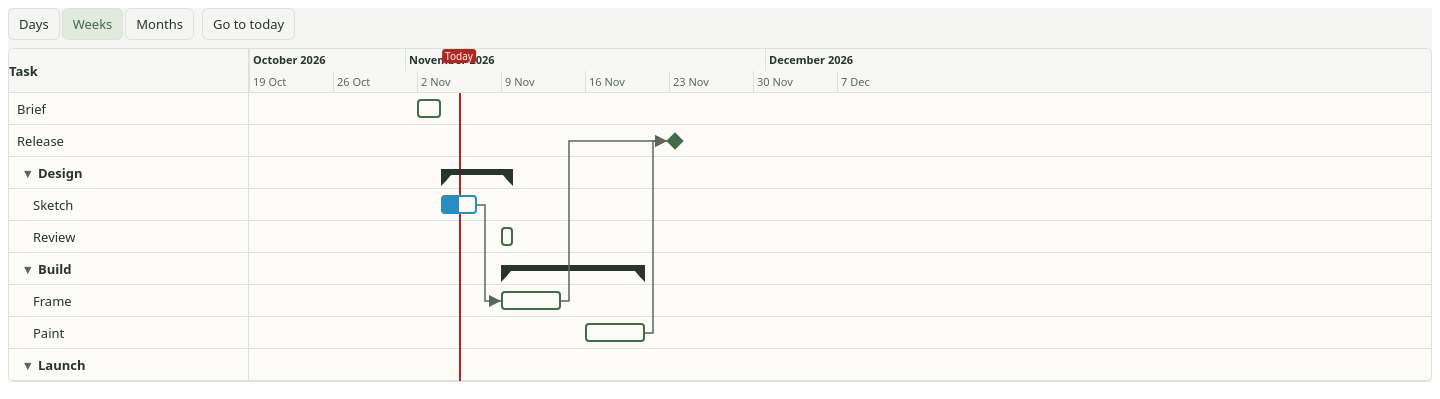
it: the menus › offer only opening and folding in a read-only chart
The width and height of the screenshot is (1440, 399).
Right-click the button named "Review": [507, 237] box [501,227,513,246]
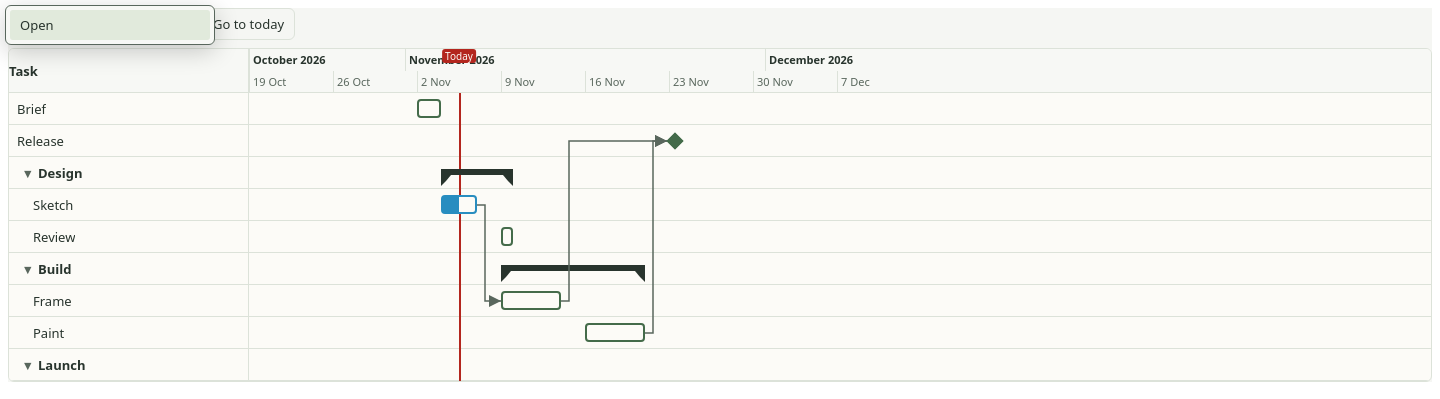
Check: the menu items read "Open", in this order
Press Escape in the menu item "Open", box [10,10,210,40]
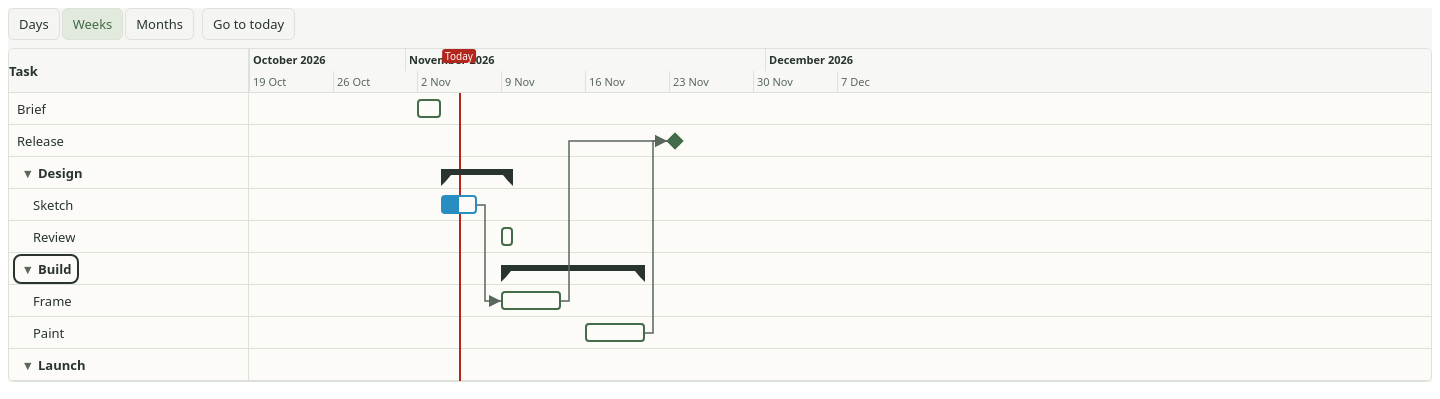
Press F10 in the button "▾ Build", box [17,258,75,280]
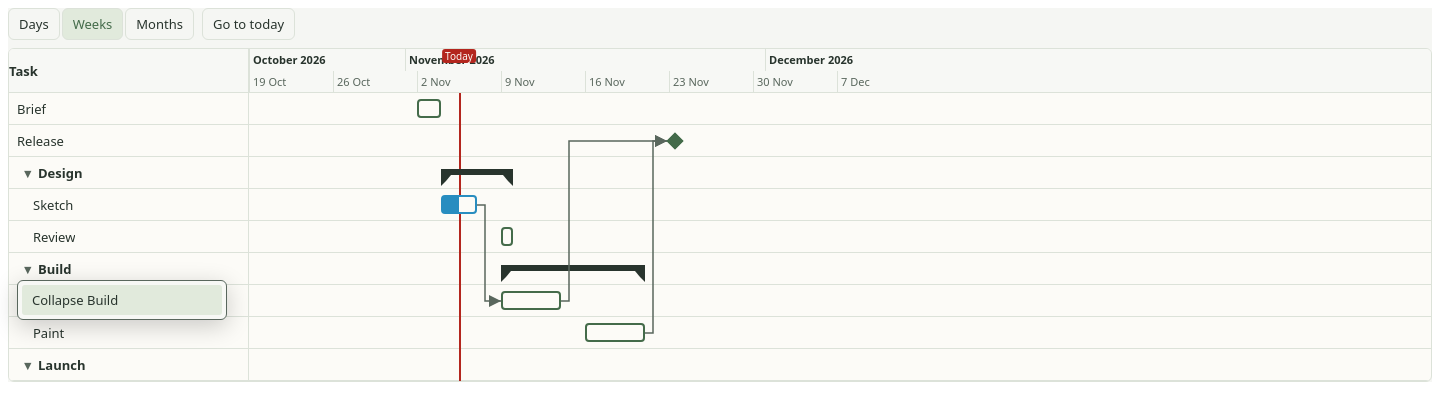
Check: the menu items read "Collapse Build", in this order, box [22,285,222,315]
